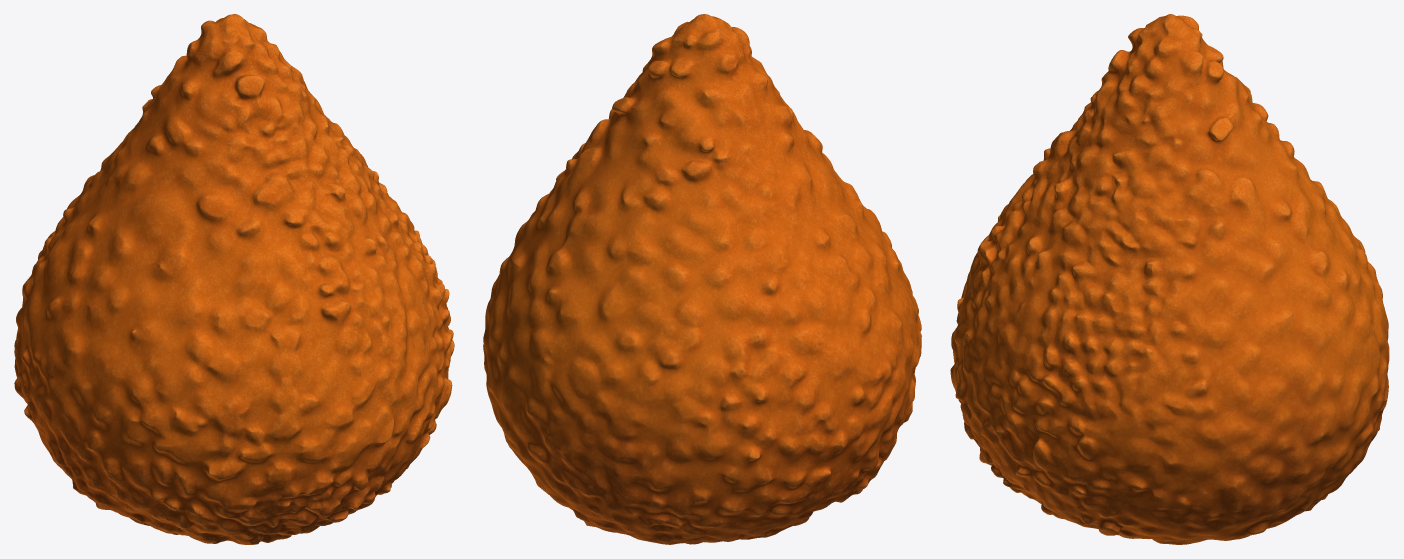
The model's file is coxinha.glb.
3 renders of one model, left to right at view 1: azimuth 30°, elevation 25°; view 2: azimuth 150°, elevation 25°; view 3: azimuth 270°, elevation 25°, orthographic.
Bounding box in the file's own units: 1.51 × 1.9 × 1.51.
Materials: 1 (1 with a texture image).
